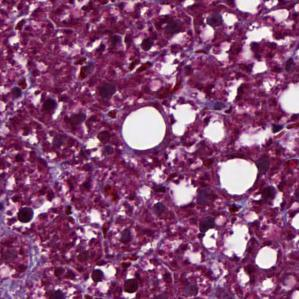steatosis: (120, 104, 167, 150)
